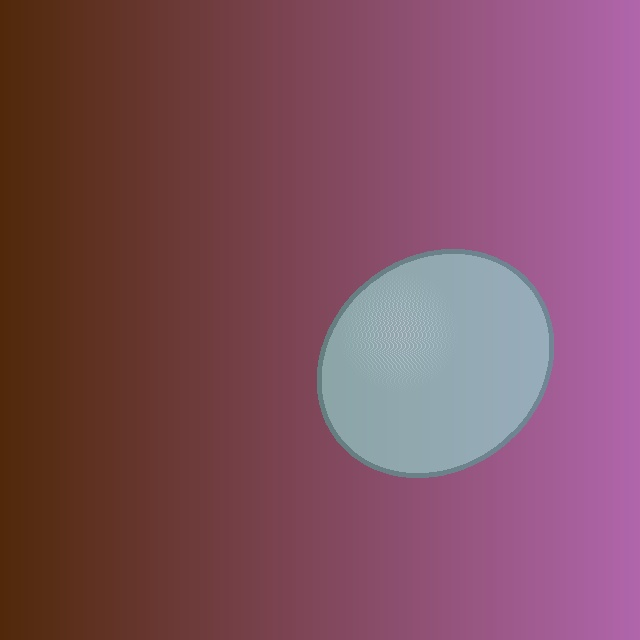lens: (319, 251, 551, 475)
